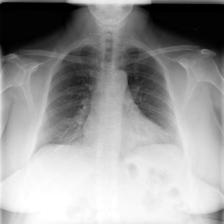normal: (32, 36, 187, 170)
